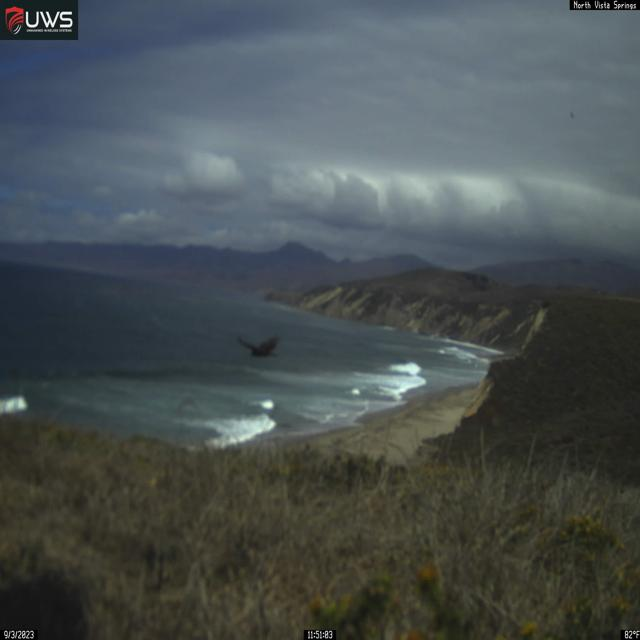bird: (236, 333, 282, 359)
